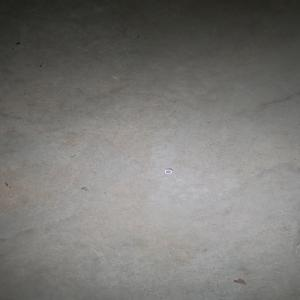Nut: (163, 168, 173, 174)
